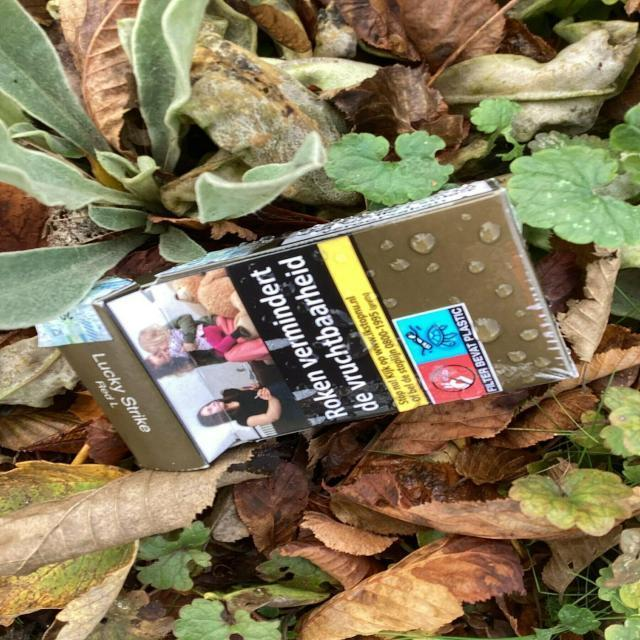Paper: (34, 168, 583, 478)
